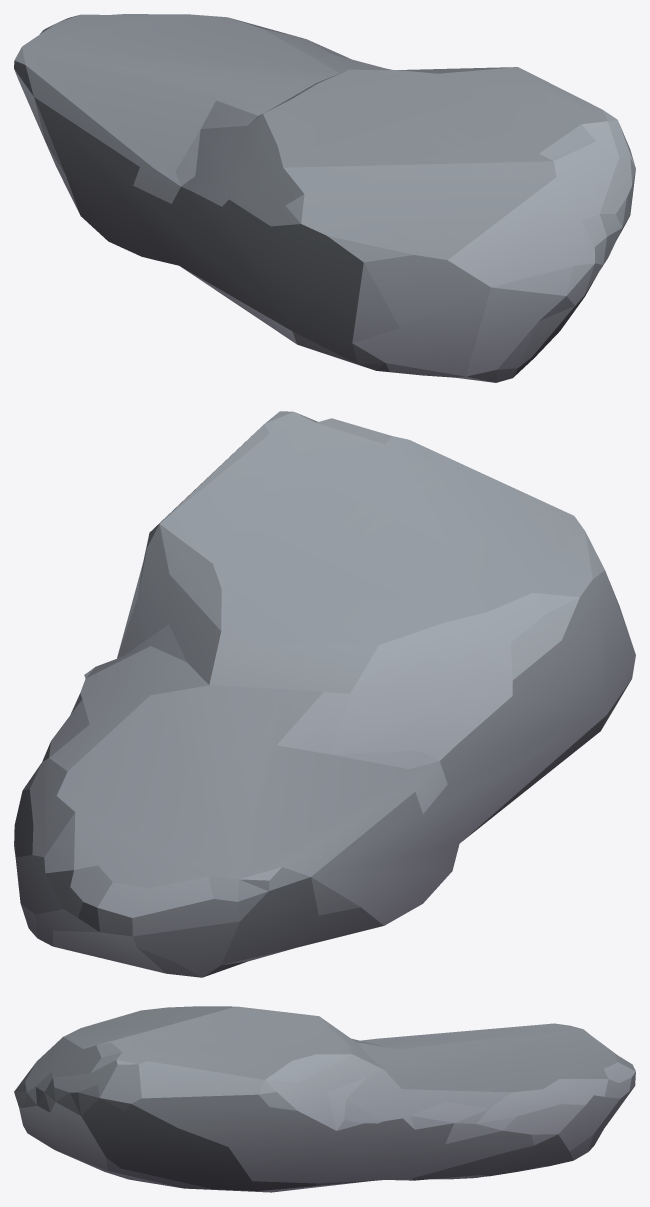
File: rock_3_04.fbx
The picture shows the model from 3 angles, top to bottom: view 1: azimuth 30°, elevation 25°; view 2: azimuth 150°, elevation 25°; view 3: azimuth 270°, elevation 25°; orthographic projection. The views are drawn at different scales.
Parts seen in each view (by area): view 1: rock_3_04; view 2: rock_3_04; view 3: rock_3_04.
Part boxes in pixels (x1,y1,x2,y2): rock_3_04: (14,14,635,382); rock_3_04: (14,411,635,977); rock_3_04: (14,1006,635,1192).
Size of the model in its own units: 99.26 by 59.65 by 215.
